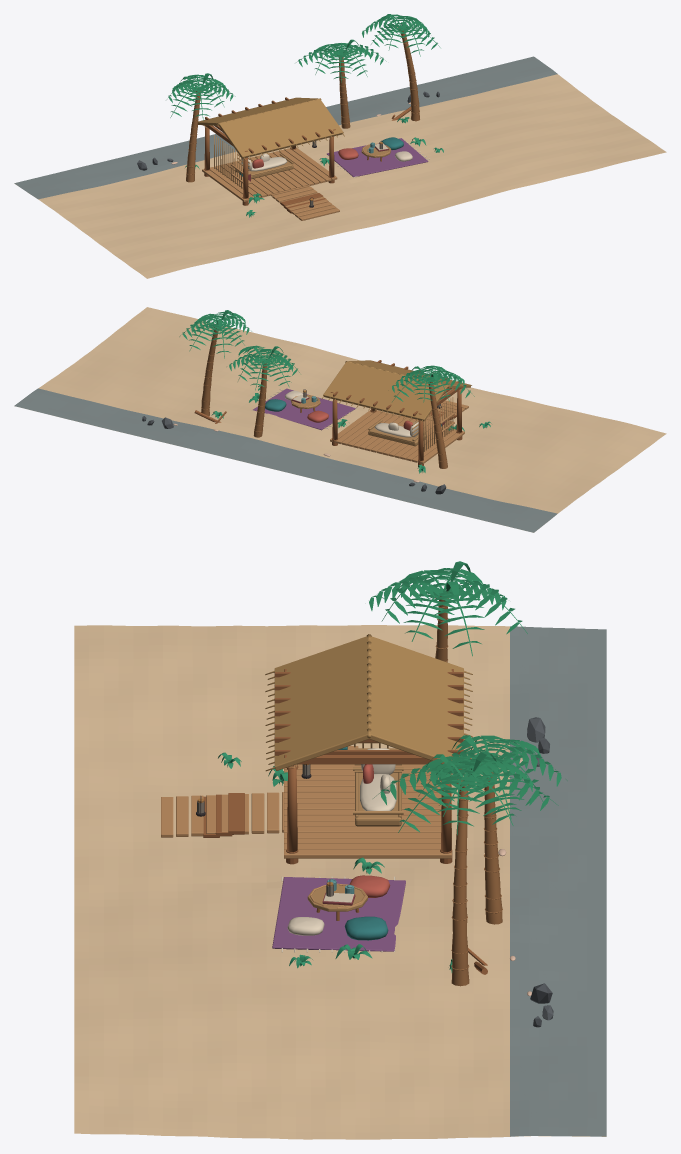
File: beach_retreat_mobile.glb
The picture shows the model from 3 angles, top to bottom: view 1: azimuth 30°, elevation 25°; view 2: azimuth 150°, elevation 25°; view 3: azimuth 270°, elevation 25°; orthographic projection. The views are drawn at different scales.
Parts seen in each view (by area): view 1: BeachRetreat_Static, Palm_Left_Leaves, Palm_Back_Leaves, Palm_Right_Leaves; view 2: BeachRetreat_Static, Palm_Back_Leaves, Palm_Left_Leaves, Palm_Right_Leaves; view 3: BeachRetreat_Static, Palm_Right_Leaves, Palm_Left_Leaves, Palm_Back_Leaves.
Part boxes in pixels (<box>): BeachRetreat_Static: <box>14,27,666,278</box>; Palm_Left_Leaves: <box>168,73,235,120</box>; Palm_Back_Leaves: <box>296,39,386,82</box>; Palm_Right_Leaves: <box>362,14,440,56</box>; BeachRetreat_Static: <box>14,307,666,532</box>; Palm_Back_Leaves: <box>229,345,299,390</box>; Palm_Left_Leaves: <box>392,365,474,402</box>; Palm_Right_Leaves: <box>179,310,251,358</box>; BeachRetreat_Static: <box>74,591,606,1139</box>; Palm_Right_Leaves: <box>373,751,558,835</box>; Palm_Left_Leaves: <box>369,561,527,656</box>; Palm_Back_Leaves: <box>418,735,567,819</box>.
Bounding box in the file's own units: 46 × 9.38 × 20.4.
